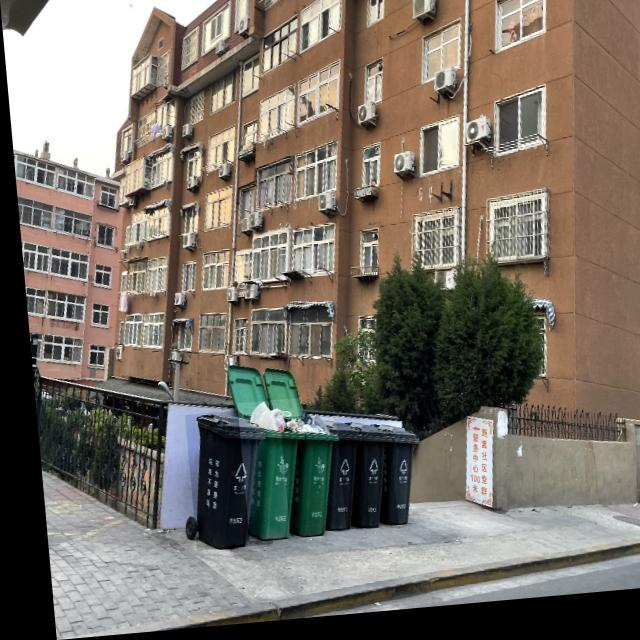garbage_bin: (177, 412, 262, 554), (333, 425, 388, 534), (308, 423, 360, 537), (363, 426, 416, 532)
overflow: (229, 403, 303, 545), (272, 418, 336, 541)
